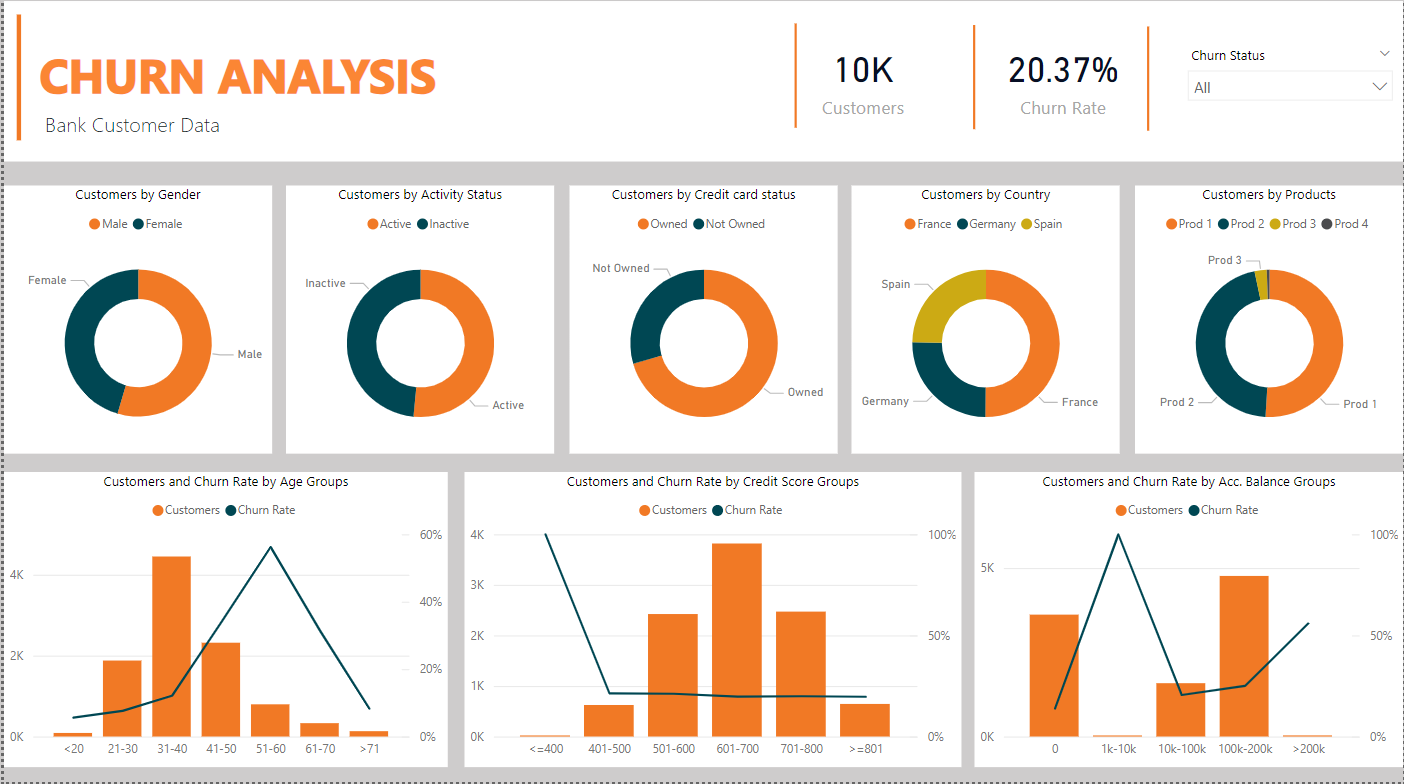

The dashboard page shown, as its layout file describes it:
{"tool":"powerbi","page":{"name":"Page 1","canvas":[1280,720],"ordinal":0},"visuals":[{"type":"shape","box":[0,6.1,1280.3,147],"z":0},{"type":"card","fields":{"Values":["Bank Customer Data.Customers"]},"box":[669.7,10.6,231.8,130.3],"z":1000},{"type":"card","fields":{"Values":["Bank Customer Data.Churn Rate"]},"box":[875.8,10.6,186.4,130.3],"z":2000},{"type":"donutChart","fields":{"Category":["Bank Customer Data.Gender"],"Y":["Bank Customer Data.Customers"]},"box":[0,174.4,245,245],"z":3000},{"type":"donutChart","fields":{"Y":["Bank Customer Data.Customers"],"Category":["Bank Customer Data.Activity Status"]},"box":[258.4,174.2,245.5,245.5],"z":4000},{"type":"donutChart","fields":{"Y":["Bank Customer Data.Customers"],"Category":["Bank Customer Data.Credit card status"]},"box":[517.2,174.2,245.5,245.5],"z":5000},{"type":"donutChart","fields":{"Y":["Bank Customer Data.Customers"],"Category":["Bank Customer Data.Country"]},"box":[776,174.2,245.5,245.5],"z":6000},{"type":"donutChart","fields":{"Y":["Bank Customer Data.Customers"],"Category":["Bank Customer Data.Products"]},"box":[1034.5,174.2,245.5,245.5],"z":7000},{"type":"lineClusteredColumnComboChart","fields":{"Category":["Age Groups.Age Groups"],"Y":["Bank Customer Data.Customers"],"Y2":["Bank Customer Data.Churn Rate"]},"box":[0,436.4,406.1,269.7],"z":8000},{"type":"lineClusteredColumnComboChart","fields":{"Y":["Bank Customer Data.Customers"],"Y2":["Bank Customer Data.Churn Rate"],"Category":["Credit Scores Groups.Credit Score Groups"]},"box":[421.2,436.4,454.5,269.7],"z":9000},{"type":"lineClusteredColumnComboChart","fields":{"Y":["Bank Customer Data.Customers"],"Y2":["Bank Customer Data.Churn Rate"],"Category":["Acc Balance Groups.Acc. Balance Groups"]},"box":[887.9,436.4,392.4,269.7],"z":10000},{"type":"slicer","fields":{"Values":["Bank Customer Data.Churn Status"]},"box":[1072.7,40.9,207.6,66.7],"z":11000},{"type":"textbox","box":[27.3,37.9,422.7,75.8],"z":11001},{"type":"textbox","box":[27.3,100,300,40.9],"z":11002},{"type":"shape","box":[698.5,25.8,51.5,95.5],"z":11003},{"type":"shape","box":[862.1,27.3,51.5,95.5],"z":11004},{"type":"shape","box":[1021.2,28.8,51.5,95.5],"z":11005},{"type":"shape","box":[0,18.2,27.3,115.2],"z":11006}]}

Visuals, with their boxes in screenshot pixels (x1, y1, x2, y2), scaled from the page's 1280x720 canvas onto the 1404x784 screenshot:
shape: 0/7/1403/167
card - Bank Customer Data.Customers: 735/12/989/153
card - Bank Customer Data.Churn Rate: 961/12/1165/153
donutChart - Bank Customer Data.Gender x Bank Customer Data.Customers: 0/190/269/457
donutChart - Bank Customer Data.Customers x Bank Customer Data.Activity Status: 283/190/553/457
donutChart - Bank Customer Data.Customers x Bank Customer Data.Credit card status: 567/190/837/457
donutChart - Bank Customer Data.Customers x Bank Customer Data.Country: 851/190/1120/457
donutChart - Bank Customer Data.Customers x Bank Customer Data.Products: 1135/190/1403/457
lineClusteredColumnComboChart - Age Groups.Age Groups x Bank Customer Data.Customers: 0/475/445/769
lineClusteredColumnComboChart - Bank Customer Data.Customers x Bank Customer Data.Churn Rate: 462/475/961/769
lineClusteredColumnComboChart - Bank Customer Data.Customers x Bank Customer Data.Churn Rate: 974/475/1403/769
slicer - Bank Customer Data.Churn Status: 1177/45/1403/117
textbox: 30/41/494/124
textbox: 30/109/359/153
shape: 766/28/823/132
shape: 946/30/1002/134
shape: 1120/31/1177/135
shape: 0/20/30/145
